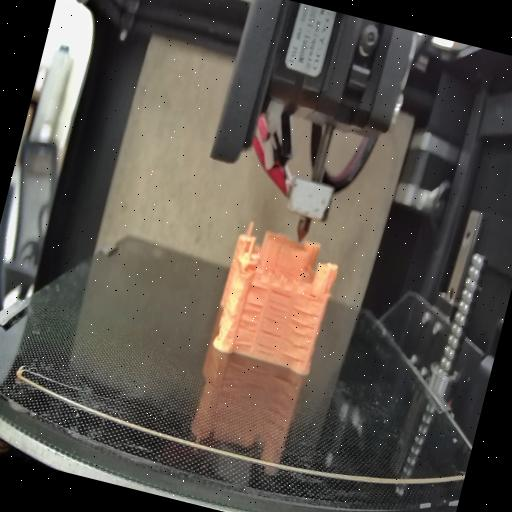cracks: (280, 307, 318, 364), (232, 299, 264, 349), (262, 288, 292, 328), (254, 330, 282, 358), (248, 282, 269, 298)
